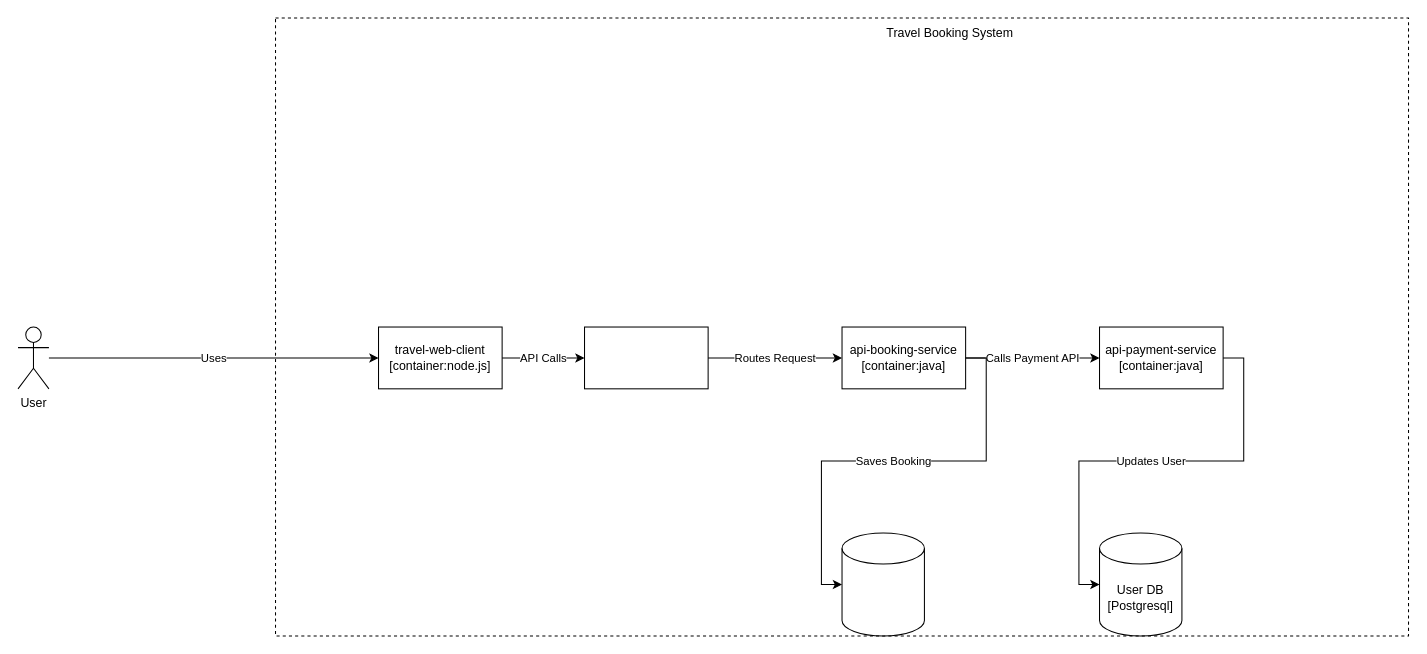
Some shapes in this 1427 by 654 pixel diagram are drawn without their labels. Here are the shapes that lost their labels. From the top down, the centre of each, then its label:
At pixel 645 357: "api-gateway [container:node.js]".
At pixel 882 584: "Booking DB [Postgresql]".
